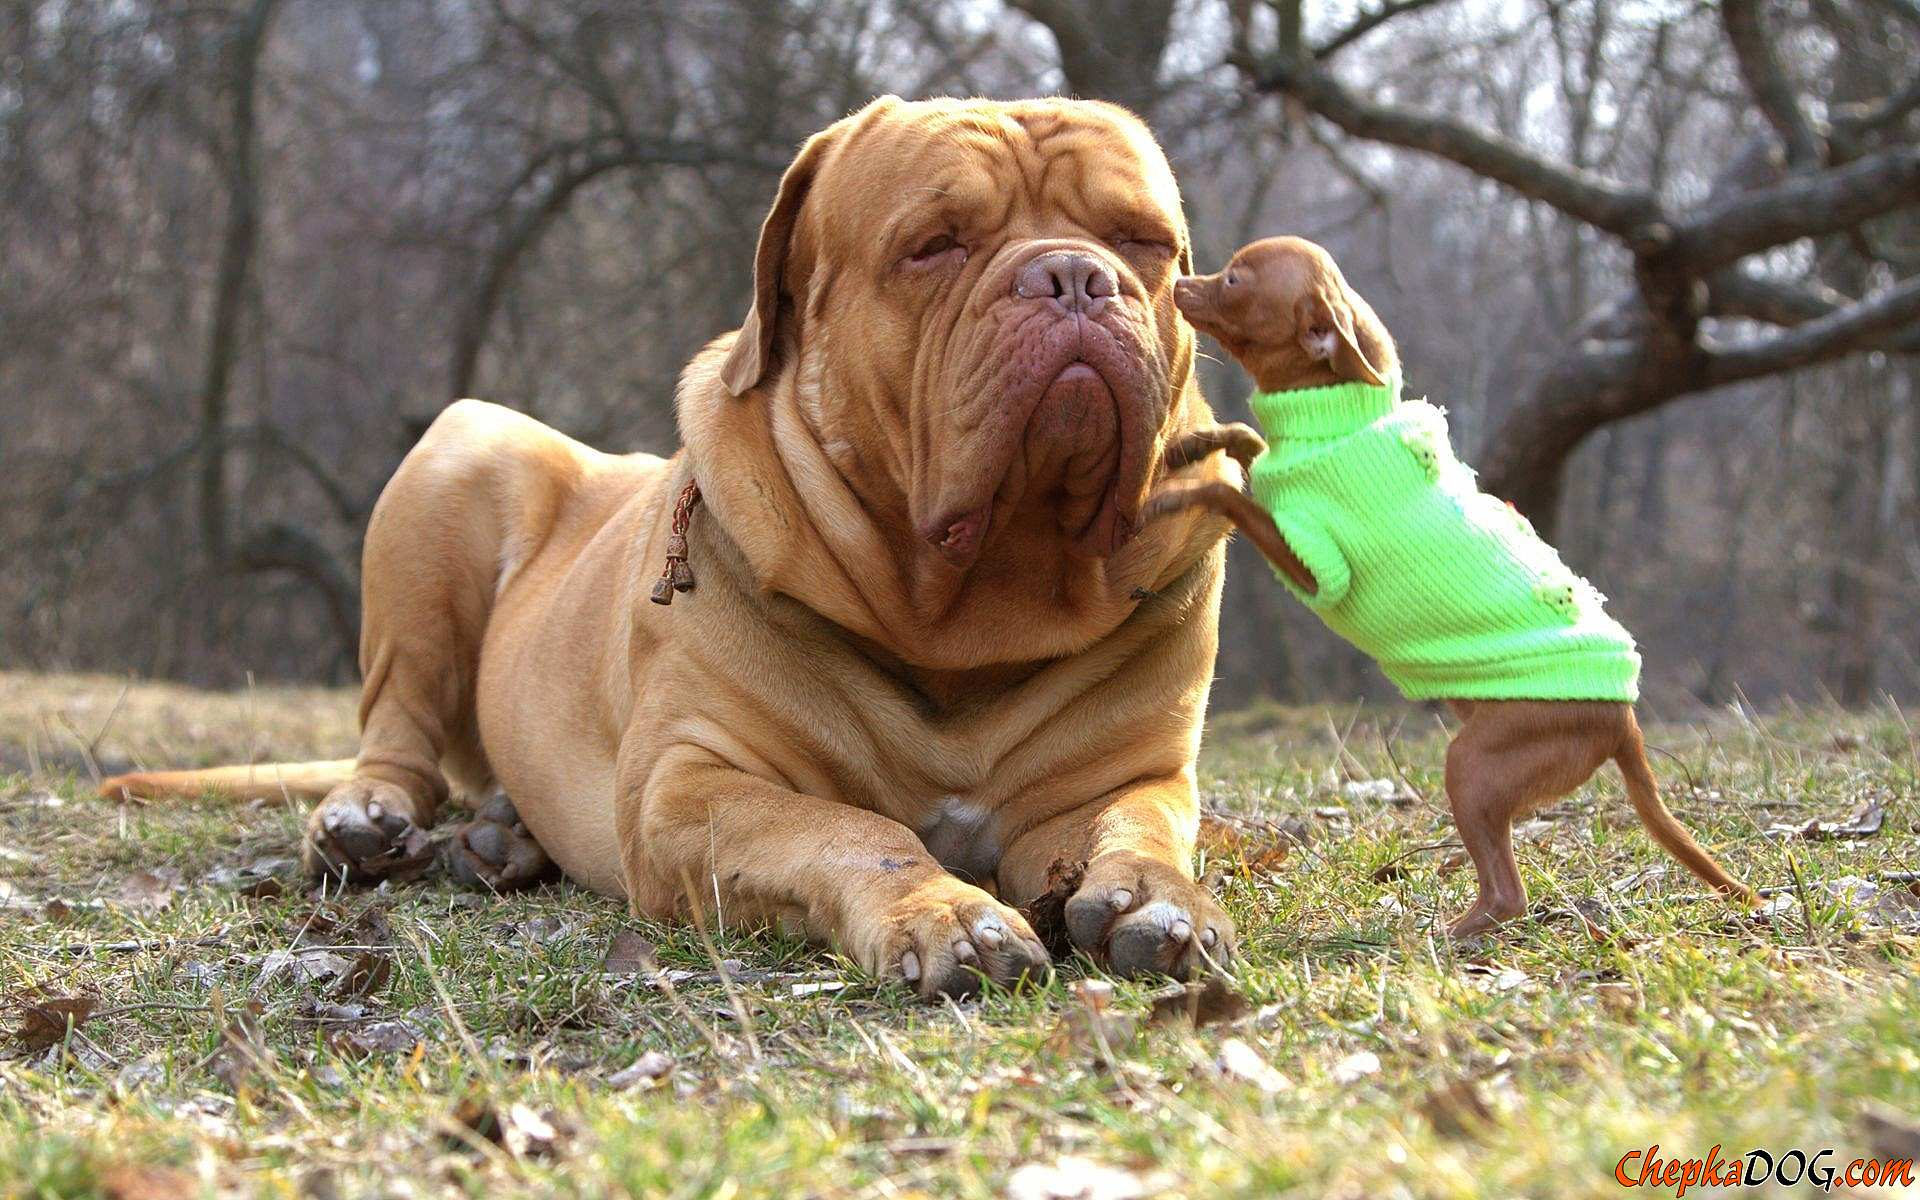dogue_de_bordeaux: (88, 93, 1236, 998)
other_dog_breed: (1140, 234, 1769, 946)
